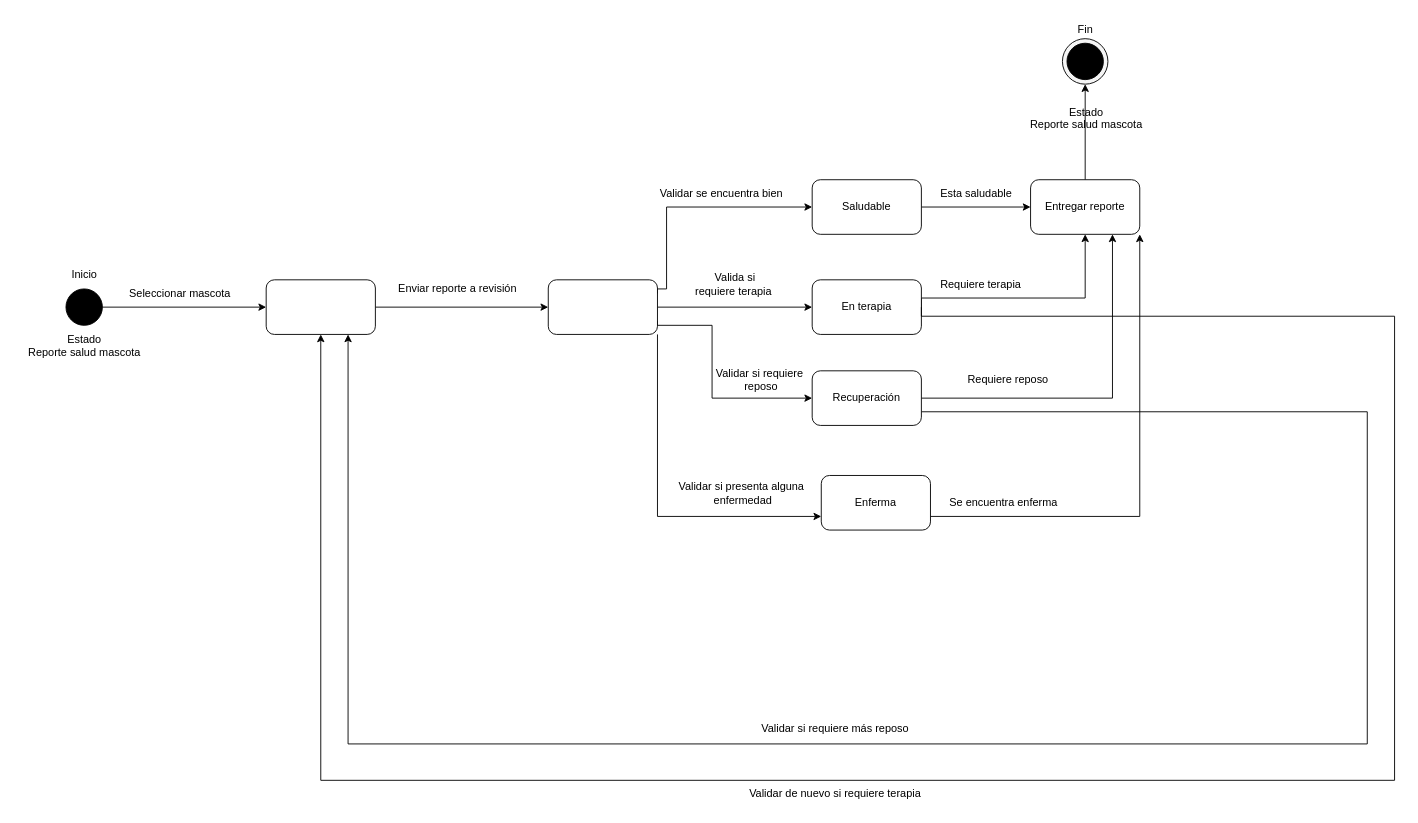
The diagram is 1418 pixels wide and 823 high, and some of its shapes have lost their labels. Each missing label, with the centre of its shape:
"Mascota enviada a revisión" goes at (x=602, y=306).
"Mascota seleccionada" goes at (x=320, y=306).
